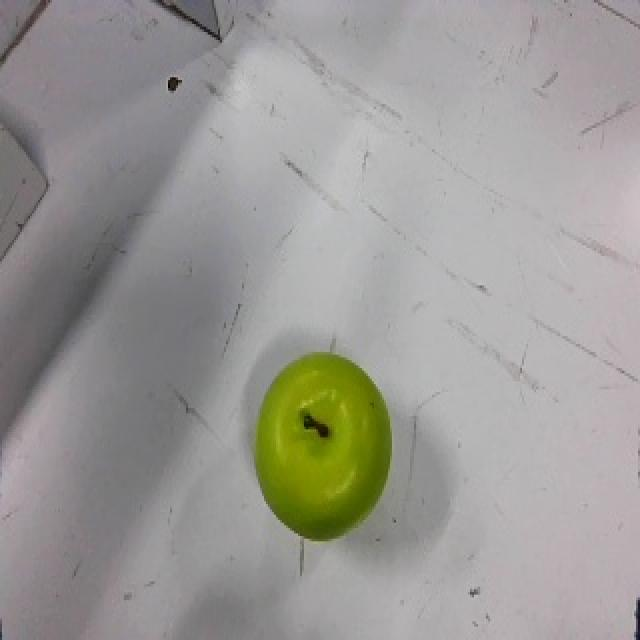apple: (253, 347, 393, 541)
